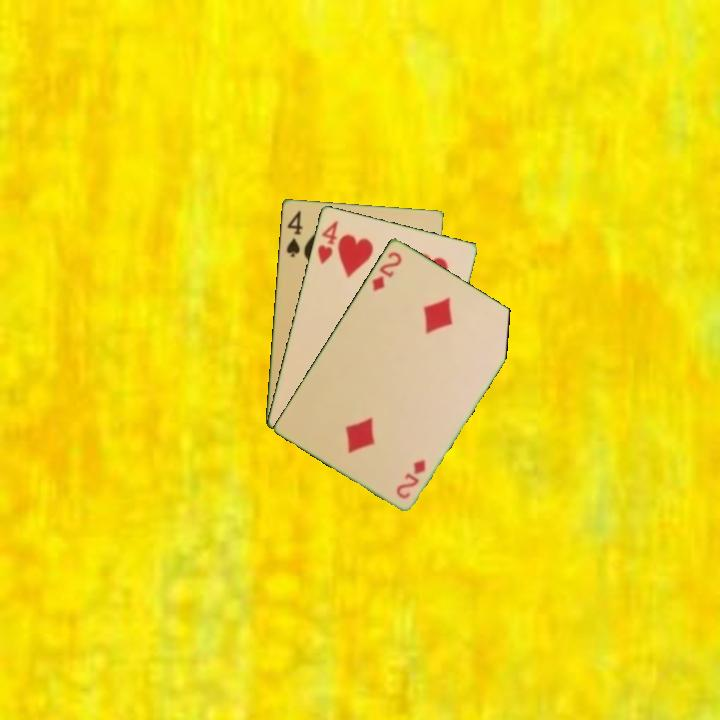2d: (368, 248, 405, 294), (392, 456, 429, 501)
4h: (314, 217, 341, 267)
4s: (283, 207, 305, 260)
